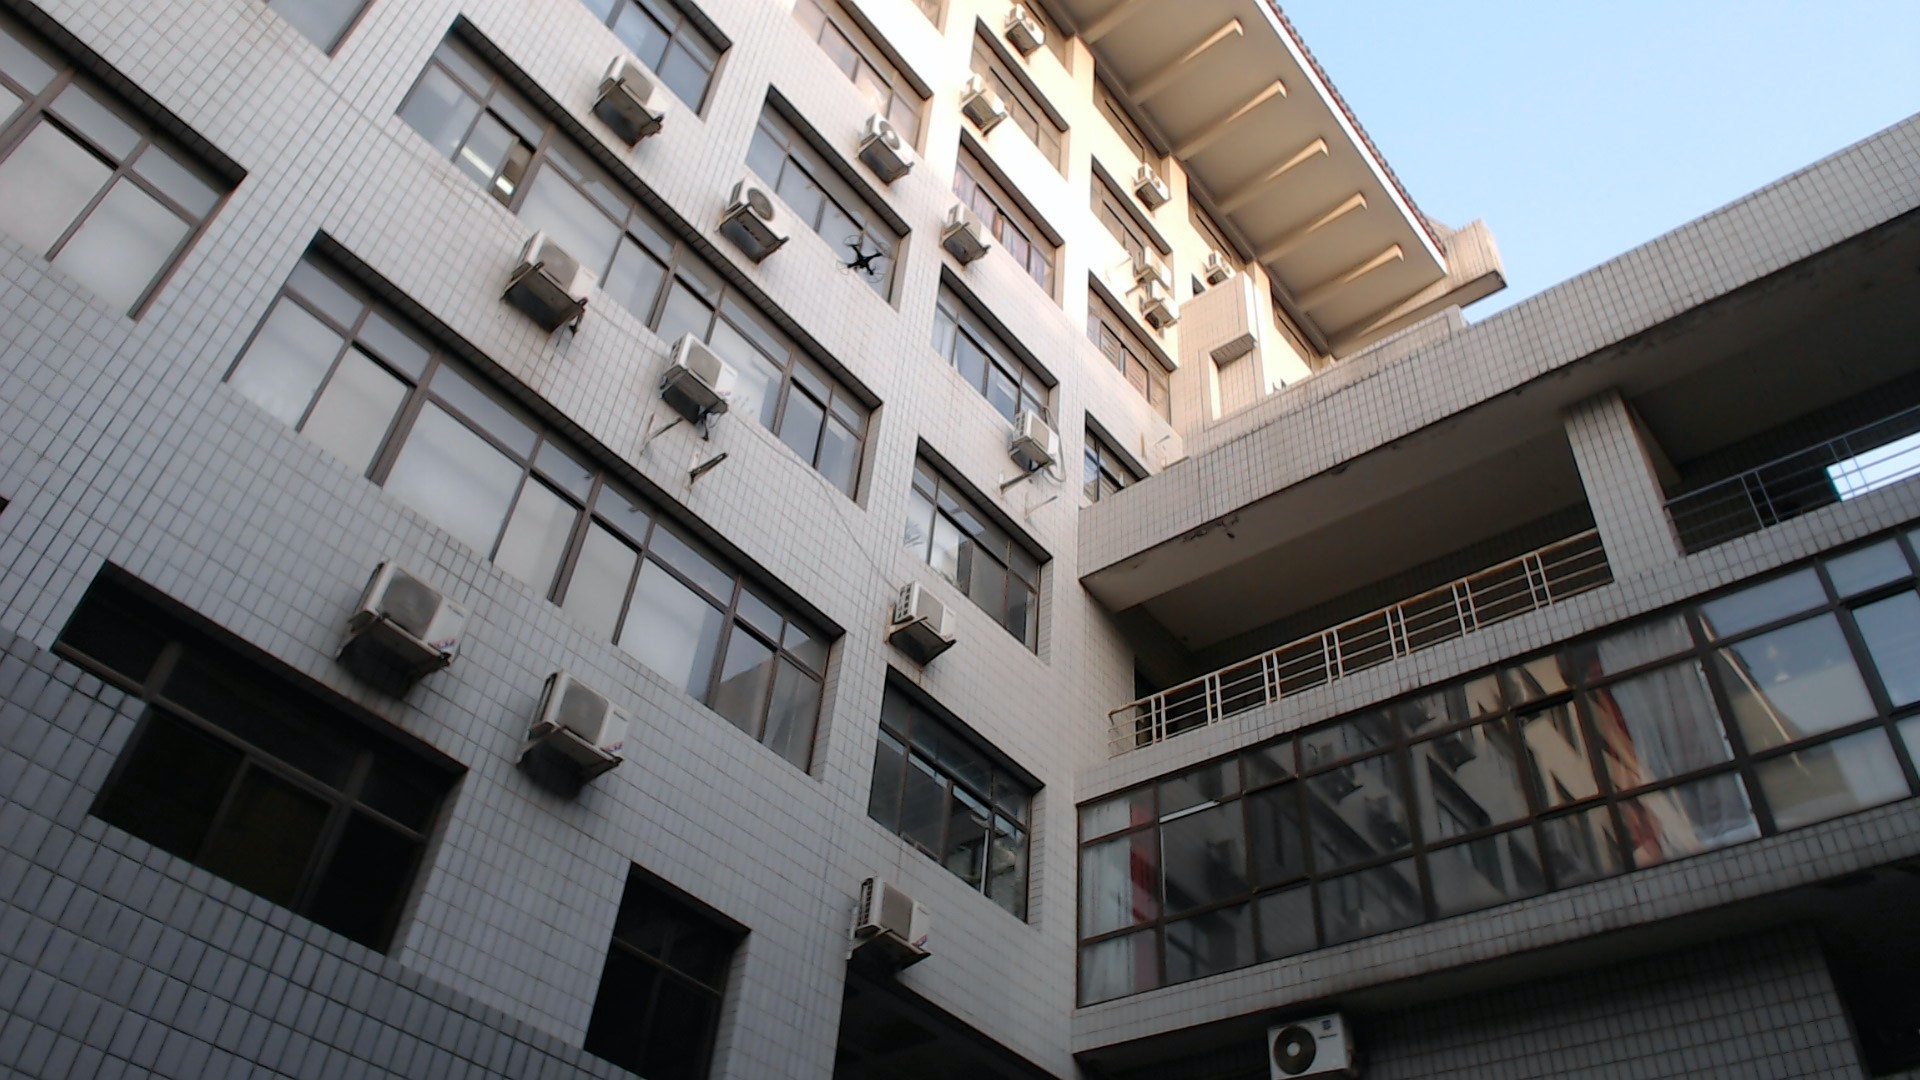drone: (799, 214, 919, 302)
